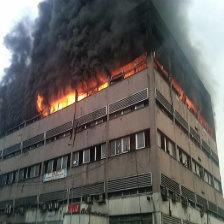fire: (34, 60, 152, 117)
smoke: (2, 1, 221, 109)
